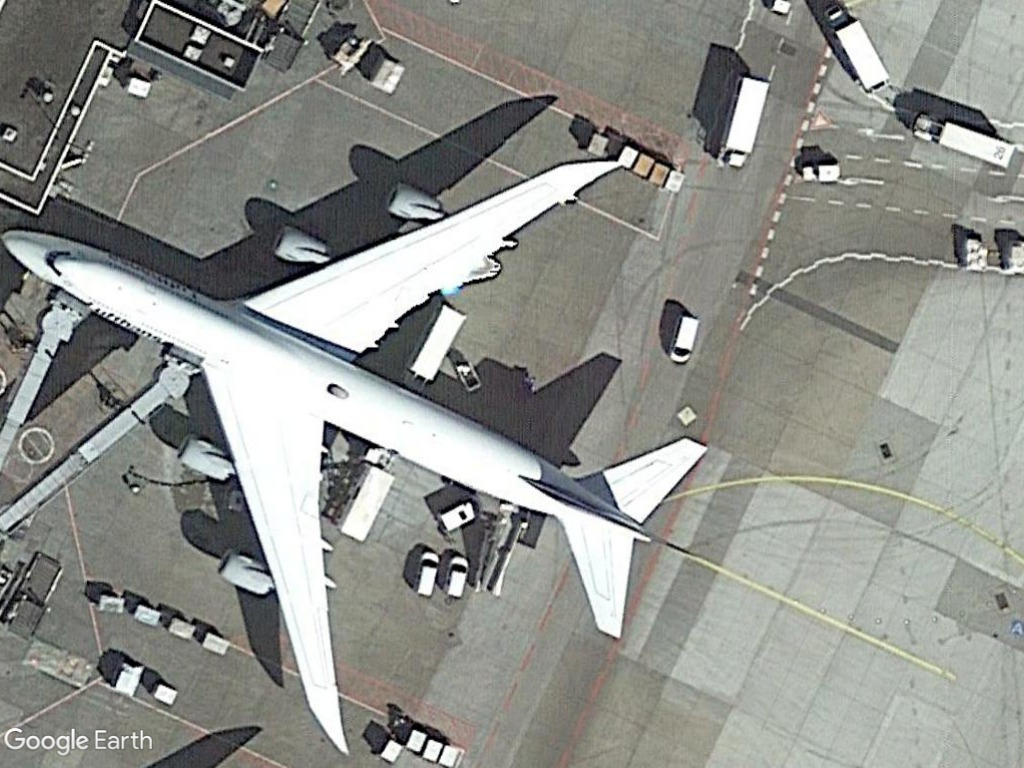airliner: (0, 150, 698, 751)
truck: (822, 0, 893, 97), (909, 108, 1016, 171), (707, 71, 772, 173)
van: (663, 310, 699, 367), (438, 554, 471, 604), (411, 548, 441, 600)
